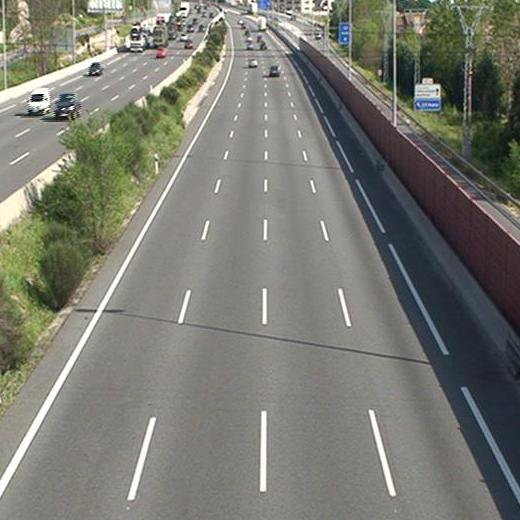car: (269, 66, 279, 74), (248, 58, 256, 66)
